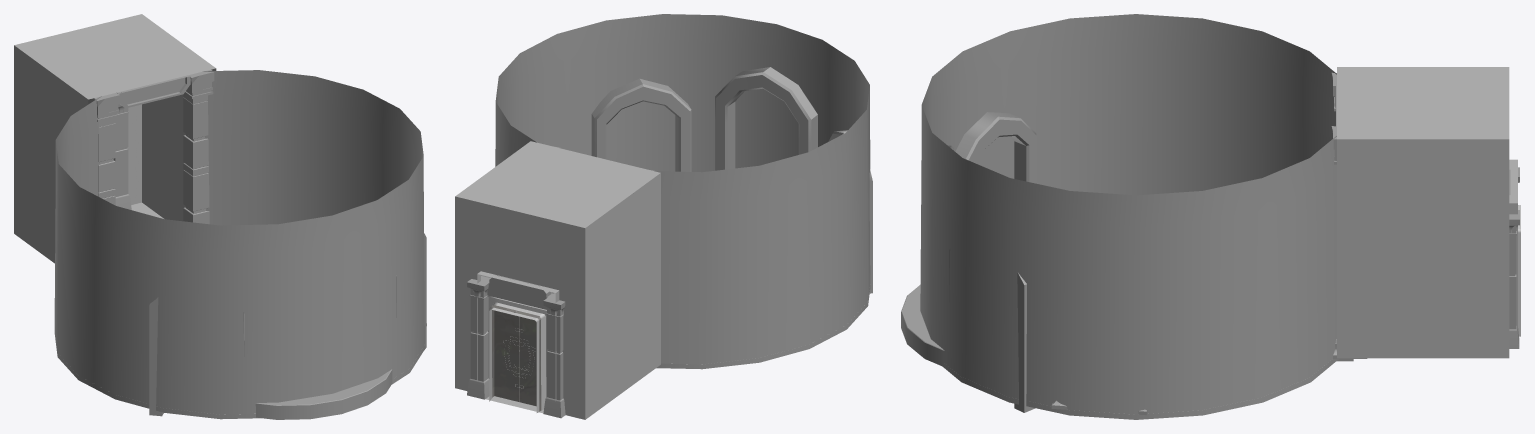
File: SM_TaslimanRoomBlockout_01.fbx
3 views of the same model, side by side, from view 1: azimuth 30°, elevation 25°; view 2: azimuth 150°, elevation 25°; view 3: azimuth 270°, elevation 25° (orthographic). The views are drawn at different scales.
Parts seen in each view (by area): view 1: pCylinder26, Wall__23_, Wall__21_, Wall__20_, pCylinder7, SM_Mod_Pillar_Middle_06 (×2), polySurface2, SM_DoorwayBlockoutFixedScale_02, Wall__21__1, polySurface30, SM_Mod_Pillar_Middle_04 (×2), SM_Mod_Pillar_Top_01 (×2) (+2 smaller); view 2: pCylinder26, Wall__21_, SM_DoorwayBlockoutFixedScale_02, Wall__23_, Wall__22__1, Wall__20__1, pCube1, polySurface2, Wall__21__1, pCylinder3; view 3: pCylinder26, Wall__20_, Wall__23_, polySurface2, pCylinder3, pCylinder7, SM_DoorwayBlockoutFixedScale_02.
Part boxes in pixels (box(x1,y1,x2,y2)): pCylinder26: box(54, 70, 424, 414); Wall__23_: box(14, 14, 215, 99); Wall__21_: box(14, 45, 88, 263); Wall__20_: box(142, 68, 216, 221); pCylinder7: box(255, 369, 392, 419); SM_Mod_Pillar_Middle_06 (×2): box(98, 97, 208, 161); polySurface2: box(149, 233, 426, 416); SM_DoorwayBlockoutFixedScale_02: box(113, 104, 131, 209); Wall__21__1: box(127, 104, 141, 204); polySurface30: box(117, 75, 190, 108); SM_Mod_Pillar_Middle_04 (×2): box(98, 135, 208, 192); SM_Mod_Pillar_Top_01 (×2): box(88, 69, 214, 121); pCylinder26: box(495, 14, 870, 364); Wall__21_: box(585, 173, 660, 419); SM_DoorwayBlockoutFixedScale_02: box(467, 275, 565, 418); Wall__23_: box(455, 141, 660, 227); Wall__22__1: box(481, 203, 559, 289); Wall__20__1: box(559, 222, 585, 419); pCube1: box(715, 67, 817, 170); polySurface2: box(591, 78, 872, 293); Wall__21__1: box(455, 196, 480, 390); pCylinder3: box(554, 285, 870, 369); pCylinder26: box(920, 14, 1336, 414); Wall__20_: box(1337, 139, 1509, 358); Wall__23_: box(1337, 67, 1509, 139); polySurface2: box(949, 112, 1036, 412); pCylinder3: box(942, 359, 1338, 419); pCylinder7: box(901, 284, 944, 366); SM_DoorwayBlockoutFixedScale_02: box(1509, 167, 1520, 348).
Size of the model in its own units: 1256 by 755 by 1798.
